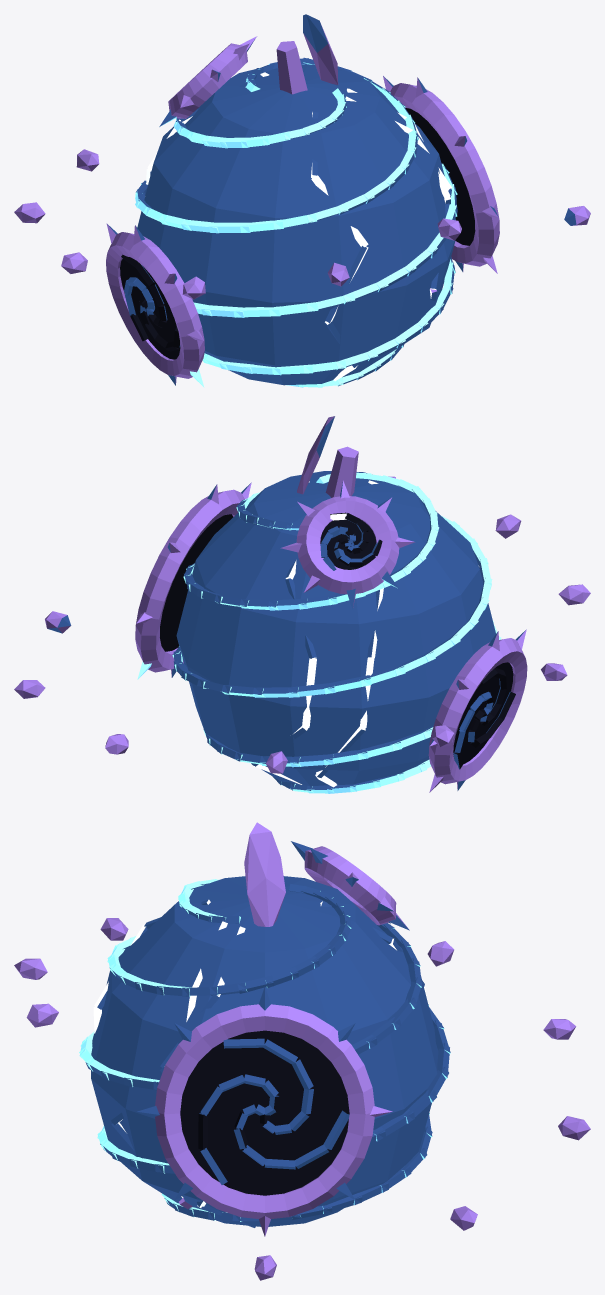
Rendered from fruto-portais.glb.
3 views of the same model, one above another, from view 1: azimuth 30°, elevation 25°; view 2: azimuth 150°, elevation 25°; view 3: azimuth 270°, elevation 25° (orthographic). The views are drawn at different scales.
Visible parts, largest first — view 1: Fruit_Body; view 2: Fruit_Body; view 3: Fruit_Body.
Part boxes in pixels (<box>): Fruit_Body: <box>14,14,590,387</box>; Fruit_Body: <box>14,416,590,793</box>; Fruit_Body: <box>14,822,590,1280</box>.
Bounding box in the file's own units: 1.87 × 1.17 × 1.62.
